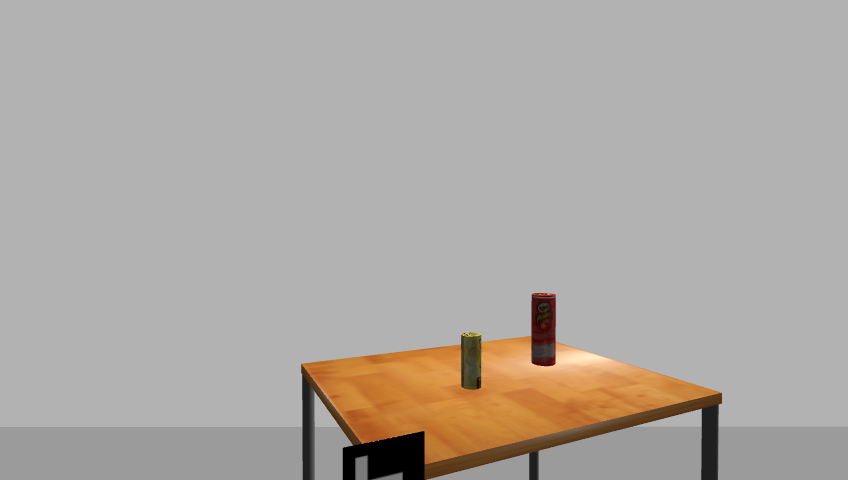aruco marker: (337, 430, 431, 480)
biscuits pack: (459, 332, 483, 391)
dinner table: (291, 337, 731, 480)
pringles can: (530, 292, 557, 368)
